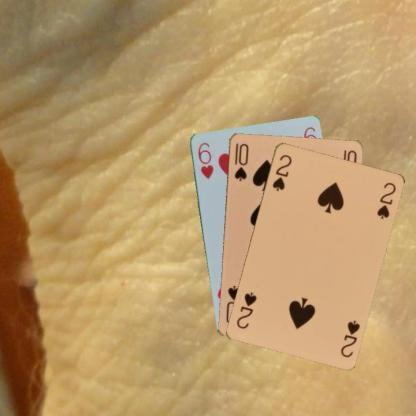10s: (232, 140, 250, 182)
2s: (269, 152, 293, 192), (338, 317, 361, 358)
6h: (195, 139, 214, 180)
